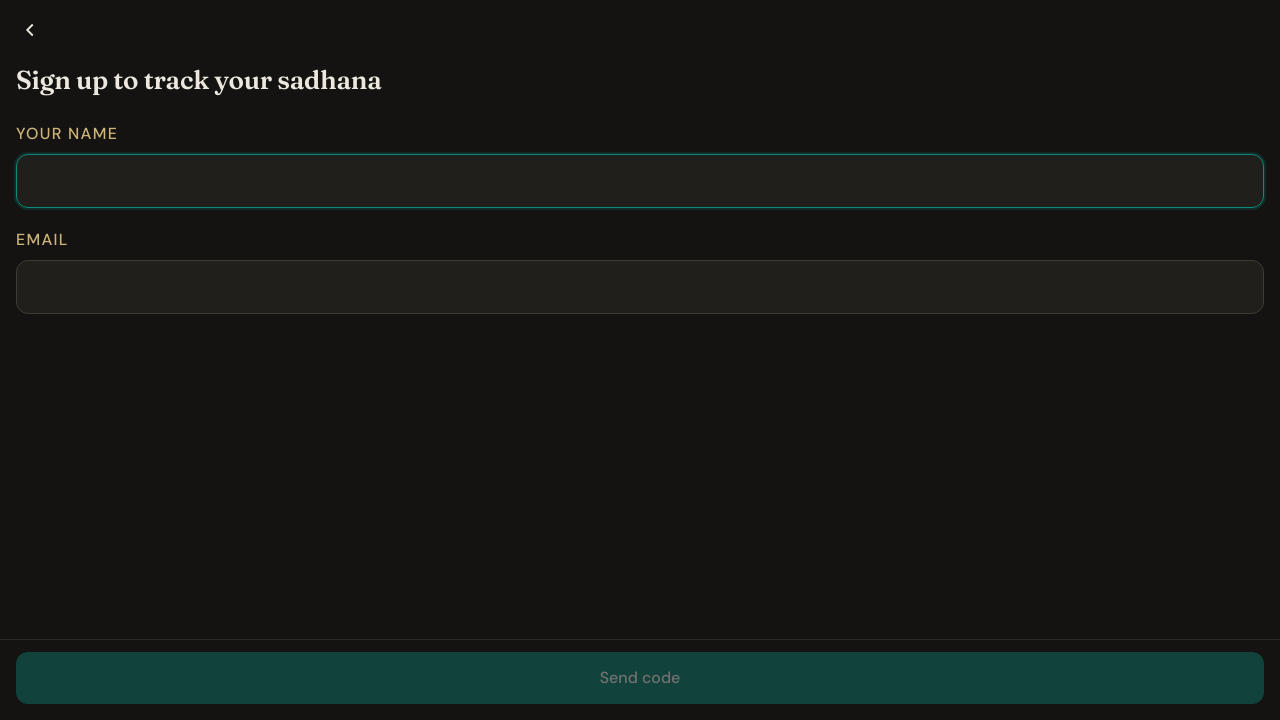
SignIn › keeps the user on the code step with the error when the code is wrong
The image size is (1280, 720).
In the field labelled "Your name": (640, 181) left=16, top=154, right=1264, bottom=208, type "Priya"
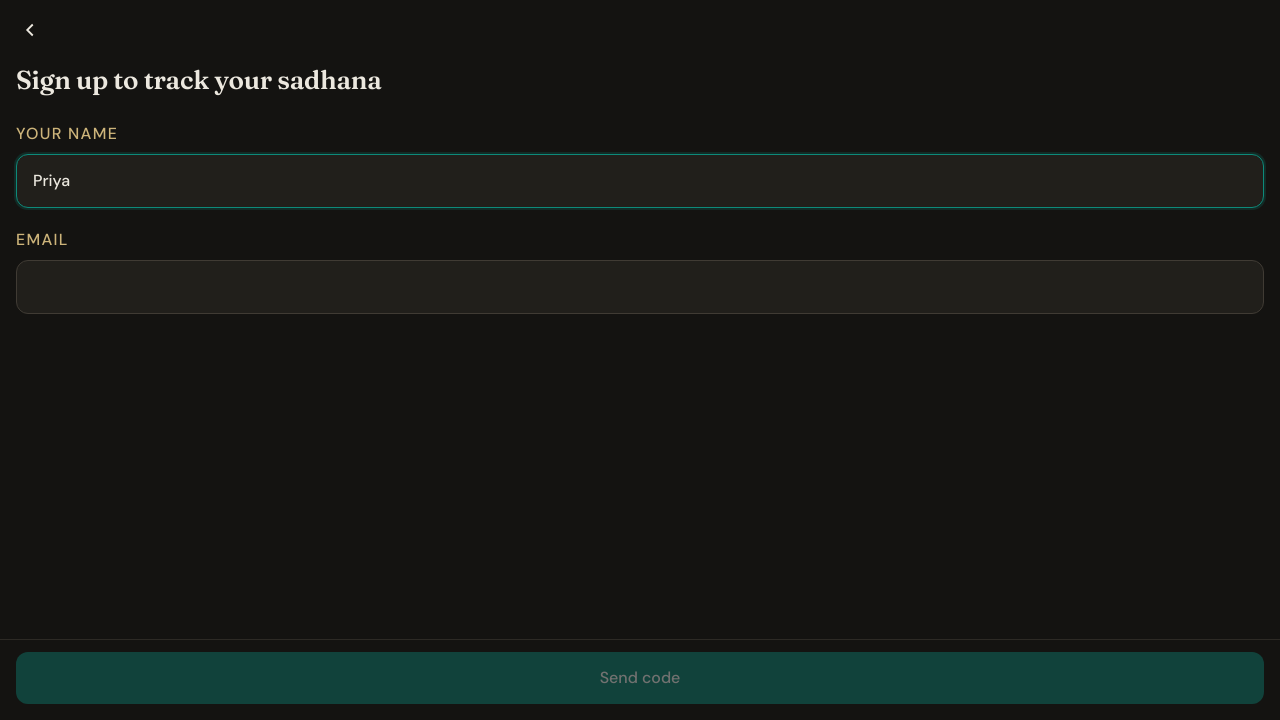
In the field labelled "Email": (640, 287) left=16, top=260, right=1264, bottom=314, type "a@b.co"
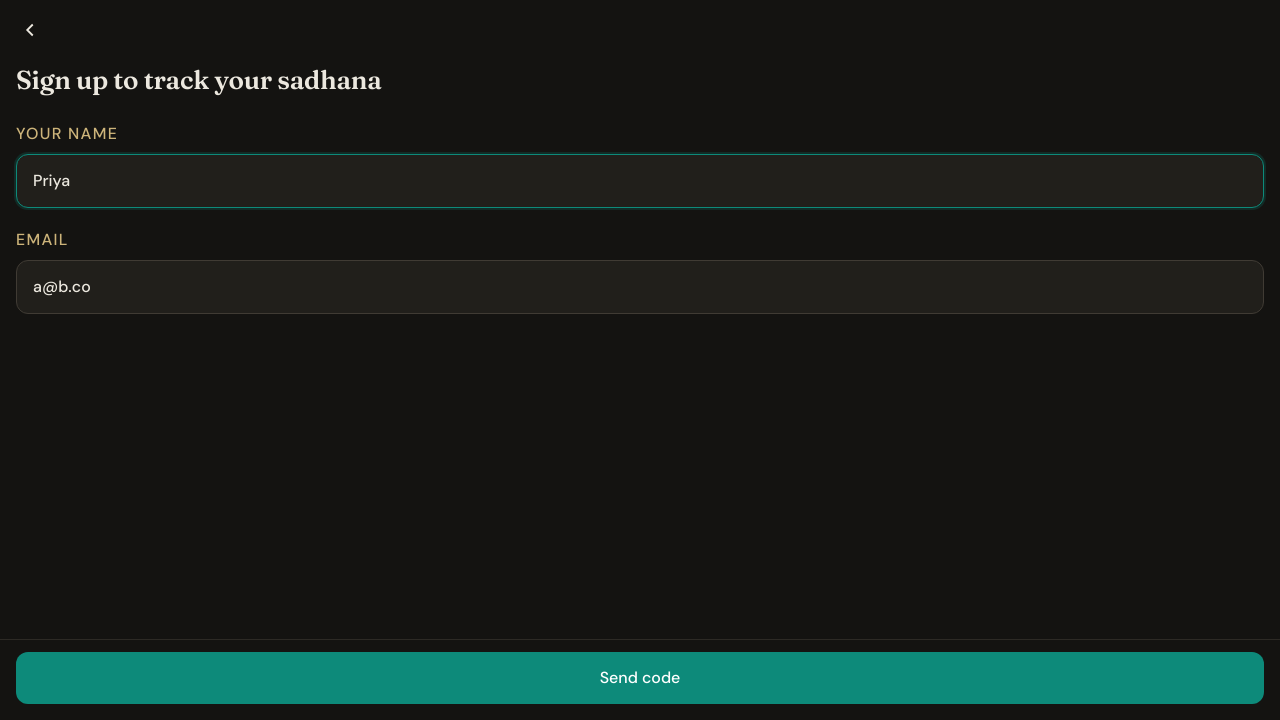
Click the button "Send code": (640, 678) left=16, top=652, right=1264, bottom=704
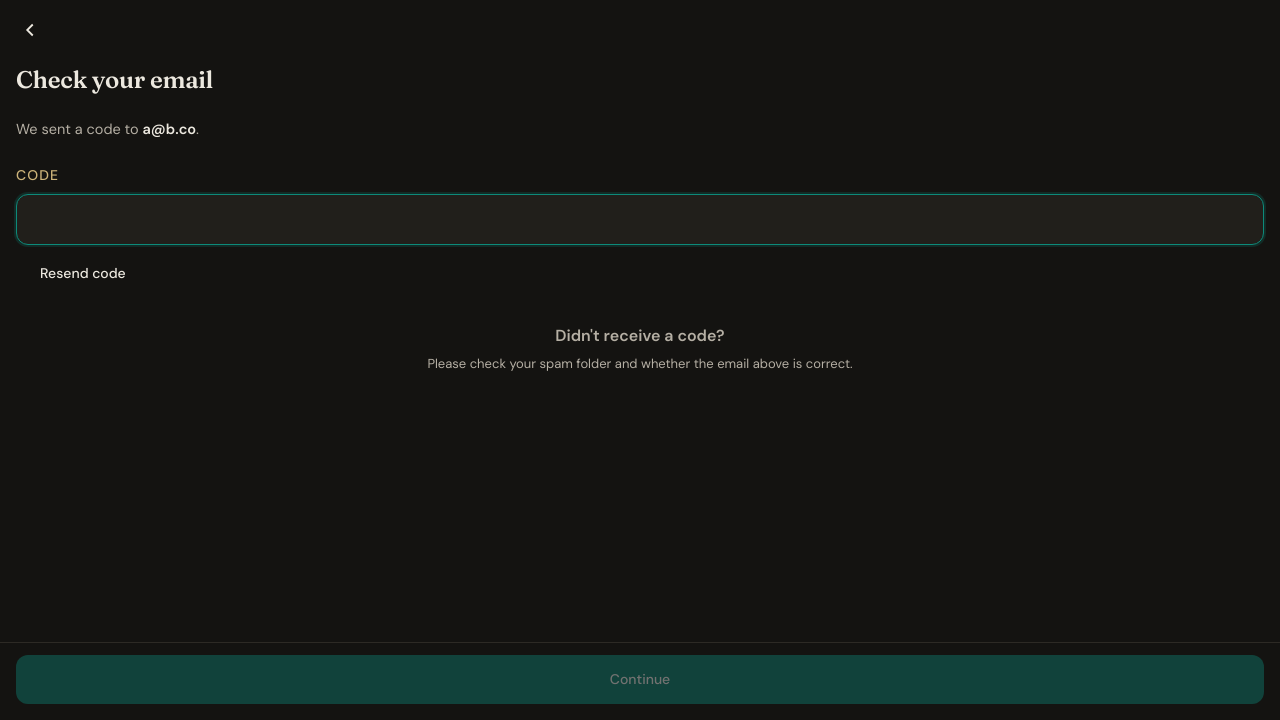
Expected: the heading "Check your email" is shown, left=16, top=65, right=213, bottom=94
In the field labelled "Code": (640, 219) left=16, top=194, right=1264, bottom=245, type "000000"
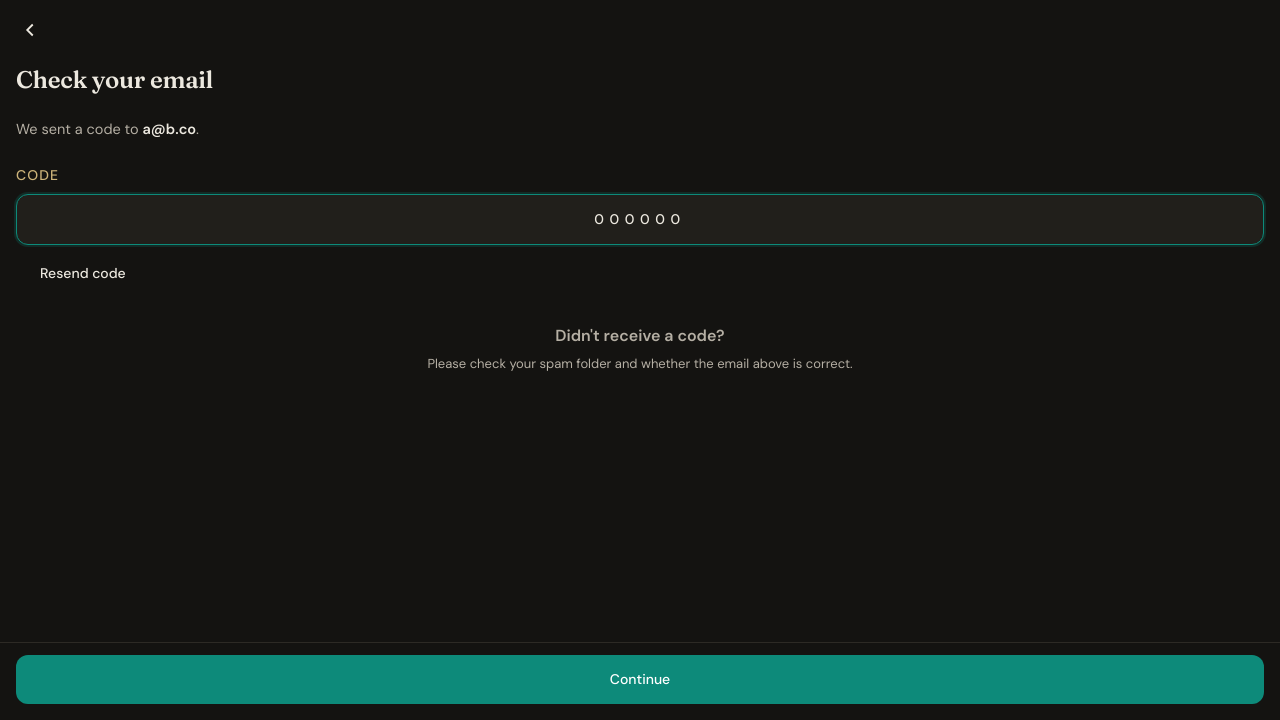
Click the button "Continue": (640, 680) left=16, top=655, right=1264, bottom=704
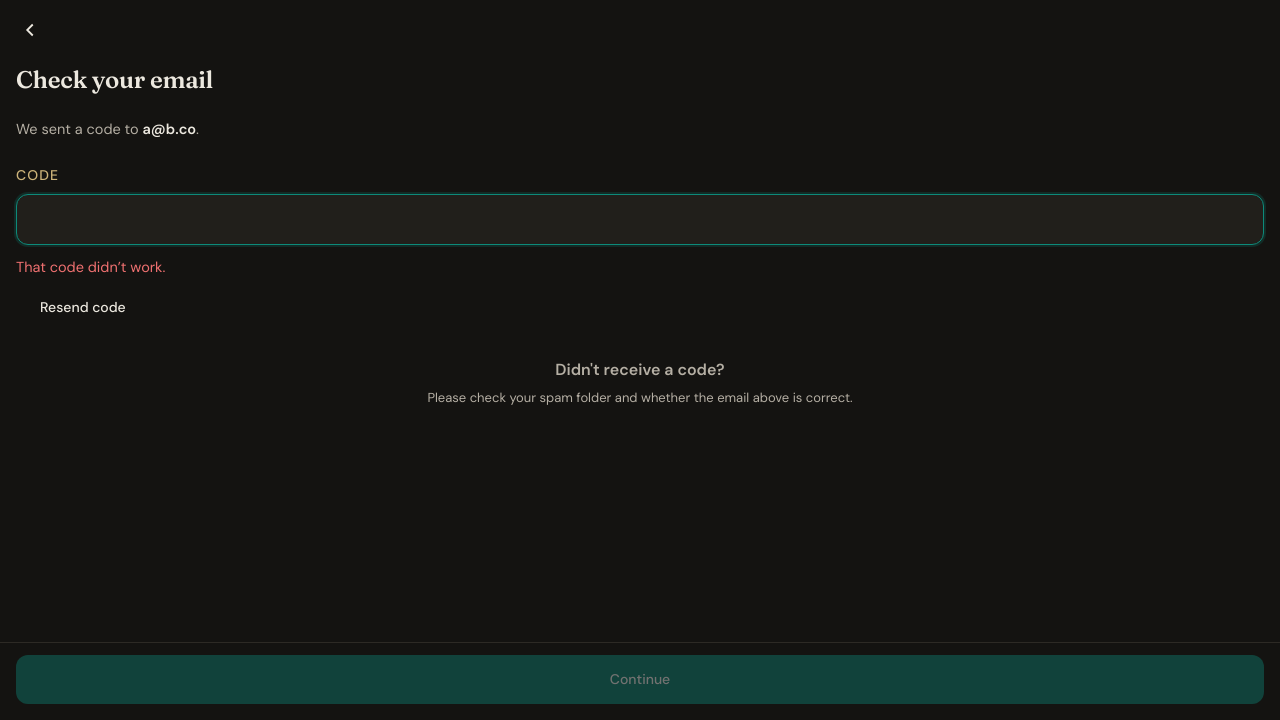
Expected: the message shows "didn’t work", left=16, top=258, right=165, bottom=276
Expected: the field labelled "Code" is empty, left=16, top=194, right=1264, bottom=245
